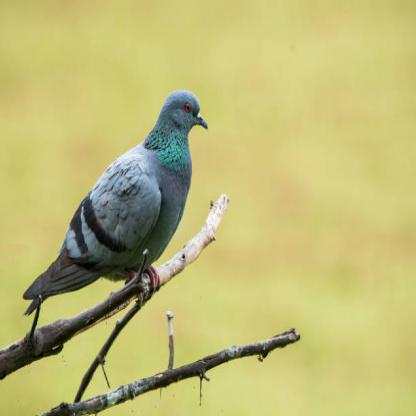Rock Pigeon: (25, 92, 209, 301)
